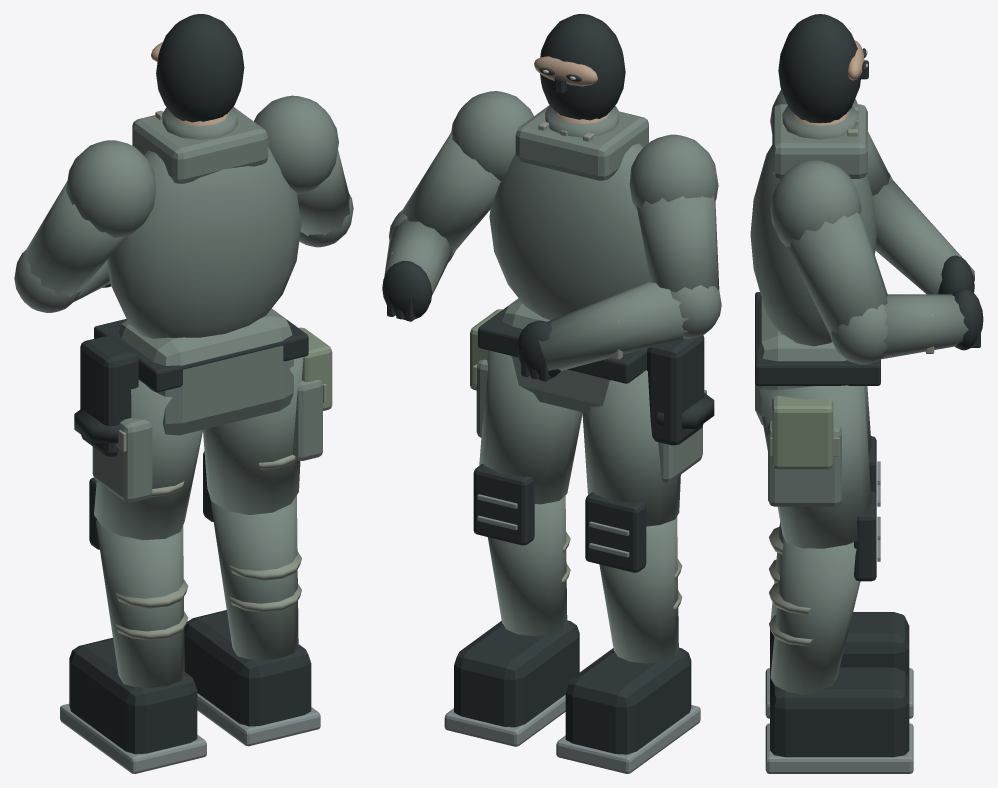
Rendered from operator.glb.
3 views of the same model, side by side, from view 1: azimuth 30°, elevation 25°; view 2: azimuth 150°, elevation 25°; view 3: azimuth 270°, elevation 25° (orthographic).
Parts seen in each view (by area): view 1: operator; view 2: operator; view 3: operator.
Part boxes in pixels (<box>): operator: <box>14,14,353,773</box>; operator: <box>382,14,721,773</box>; operator: <box>750,14,983,773</box>.
Size of the model in its own units: 0.872 by 1.8 by 0.535.
